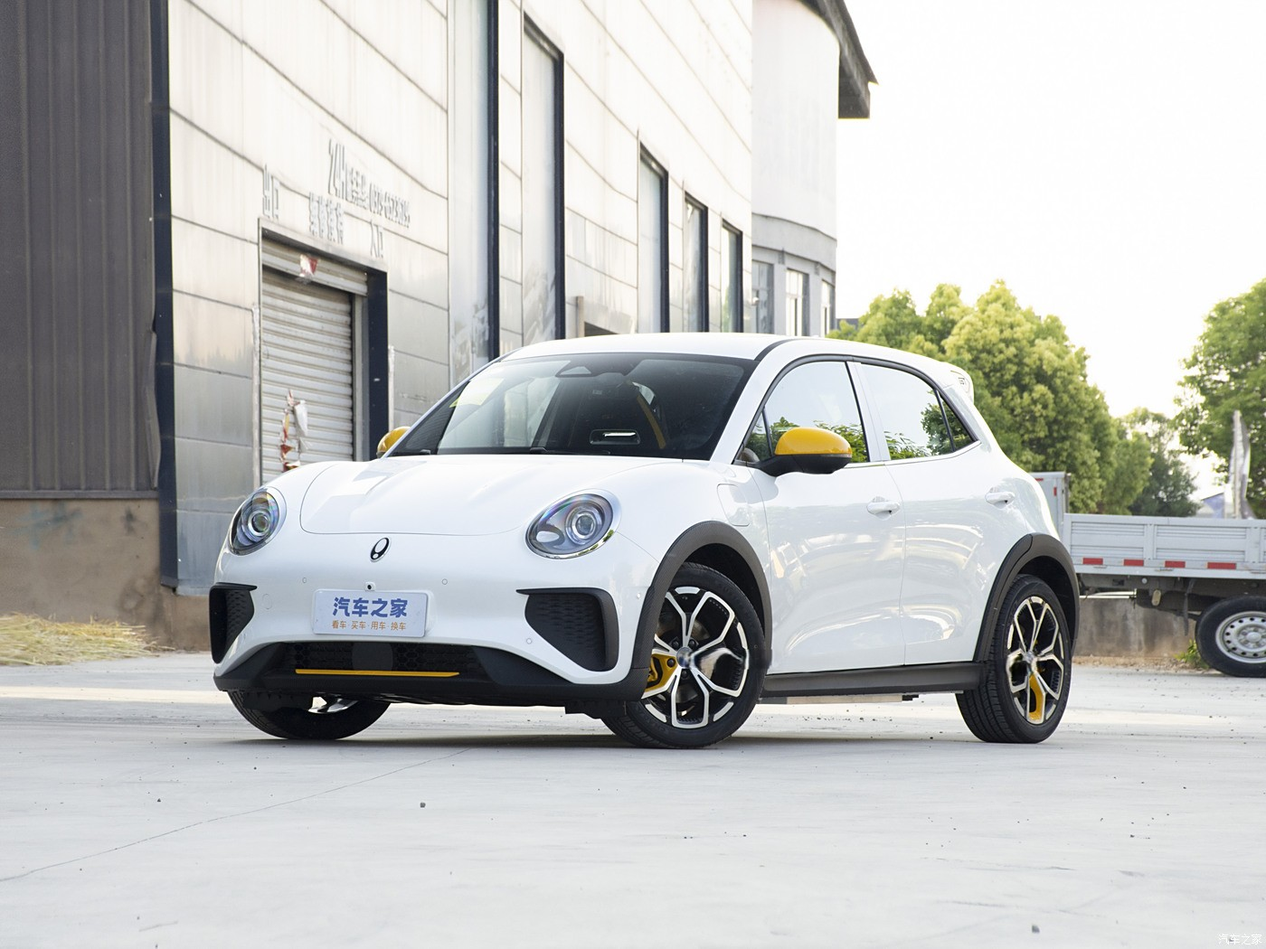ORA: (371, 538, 389, 559)
